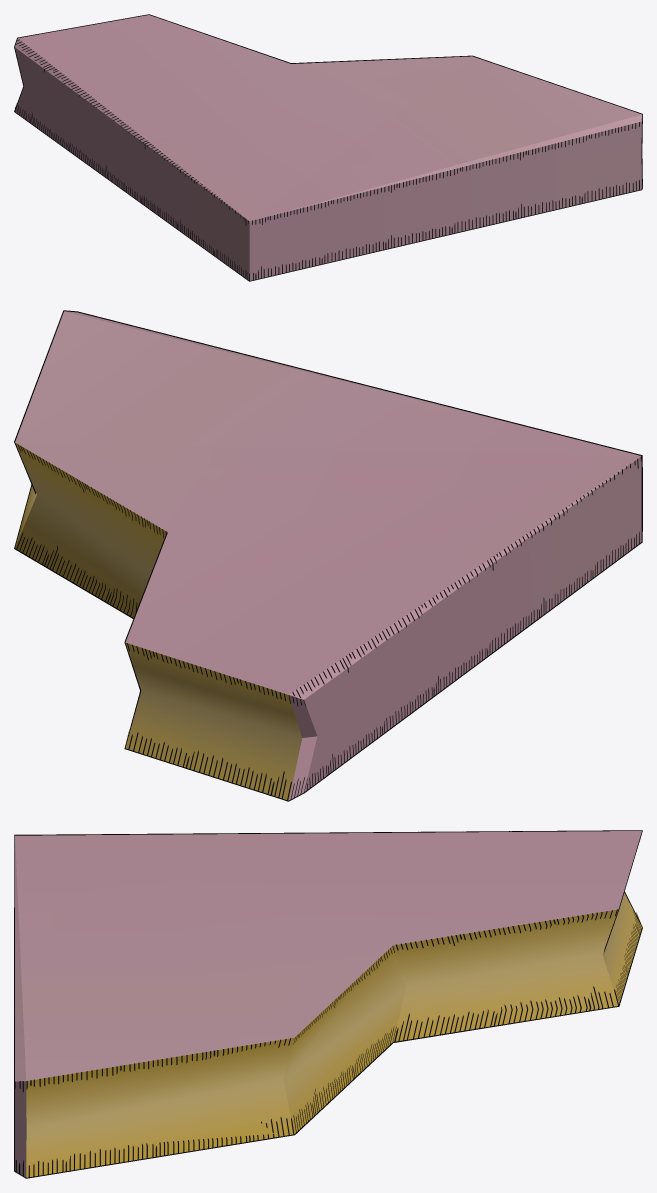
File: pm-wall-corner-broken.glb
3 renders of one model, top to bottom at view 1: azimuth 30°, elevation 25°; view 2: azimuth 150°, elevation 25°; view 3: azimuth 270°, elevation 25°, orthographic. The views are drawn at different scales.
Visible parts, largest first — view 1: Wall_CornerBroken; view 2: Wall_CornerBroken; view 3: Wall_CornerBroken.
Boxes of the visible parts, left/top/right/bottom form: Wall_CornerBroken: left=14, top=14, right=642, bottom=281; Wall_CornerBroken: left=14, top=310, right=642, bottom=801; Wall_CornerBroken: left=14, top=830, right=642, bottom=1178.
Size of the model in its own units: 1.84 by 0.3282 by 1.91.
3 materials, 2 textured.
